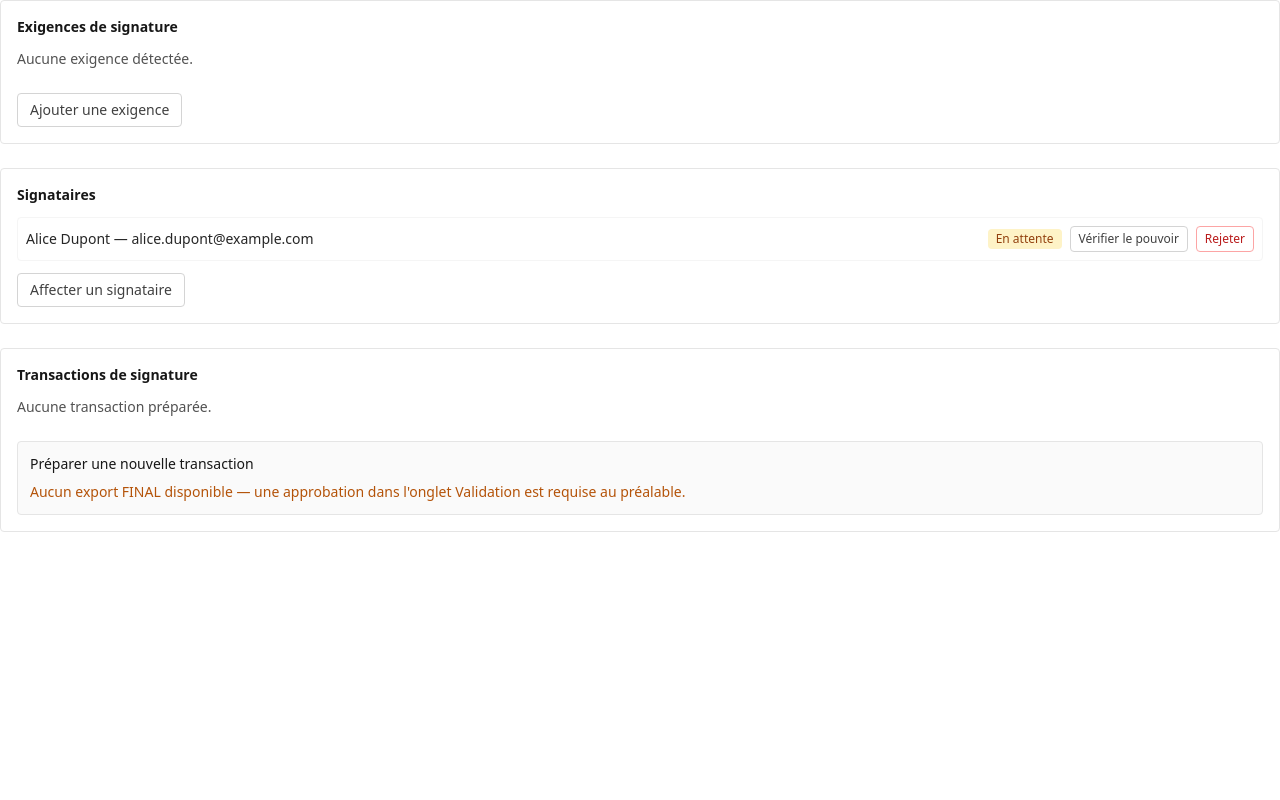
Scenario: SignatureSection › displays the backend error when verifying a signatory's authority fails
Click the button "Vérifier le pouvoir". click: [1129, 239]
box: [1070,226,1188,252]
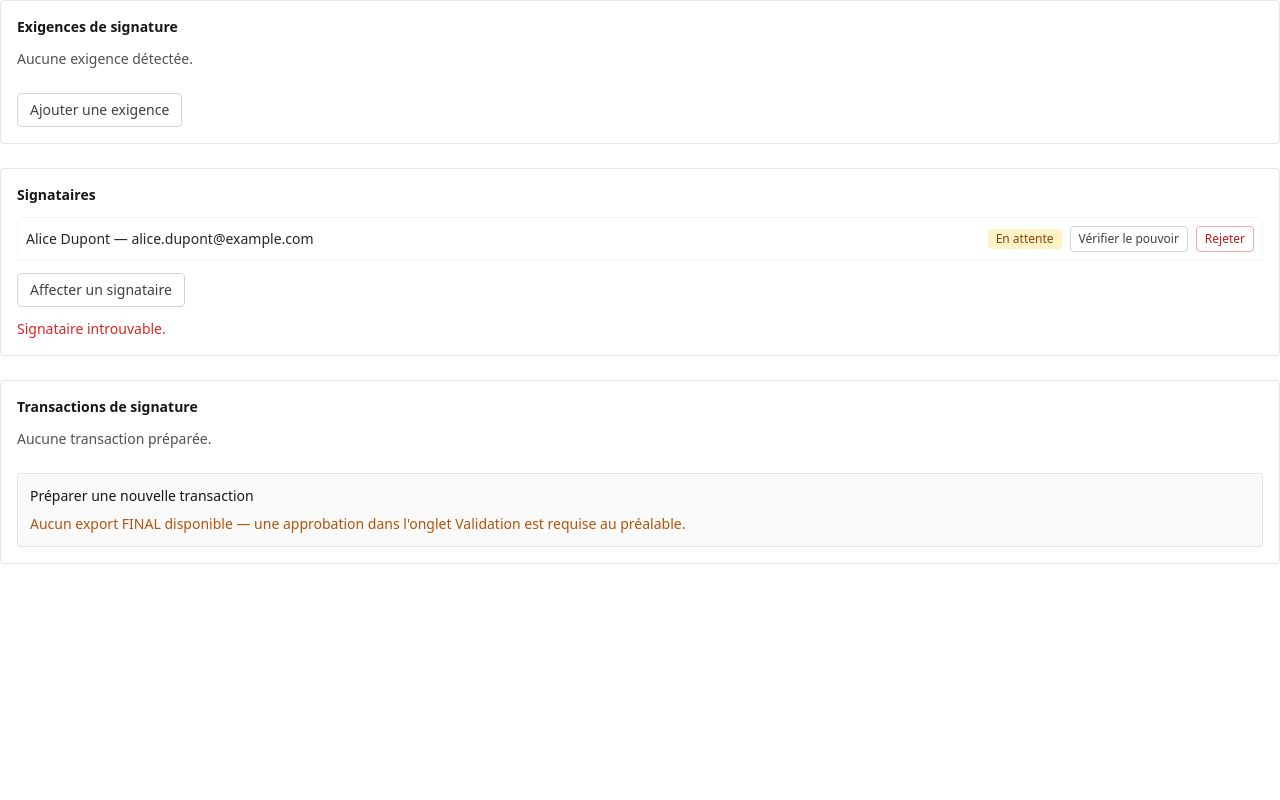
expect the message reads "Signataire introuvable.": met, box [17,319,166,338]
